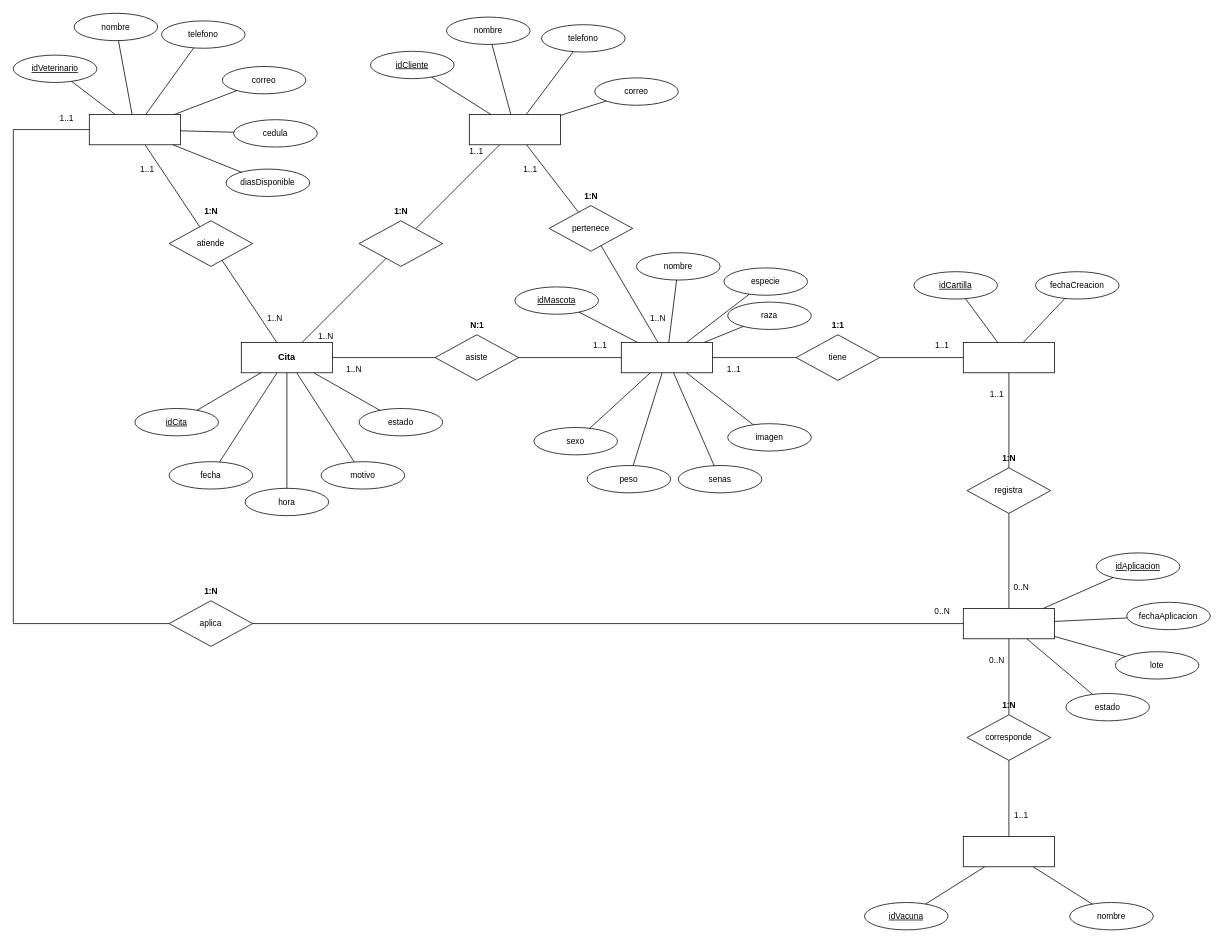
This 1224x943 diagram has some shape labels left out. Here are the shapes that lost their labels. From the top down, the centre of each, then its label:
the point at 134,129: Veterinario
the point at 514,129: Cliente
the point at 400,243: solicita
the point at 666,357: Mascota
the point at 1008,357: Cartilla
the point at 1008,623: Aplicacion
the point at 1008,851: Vacuna
